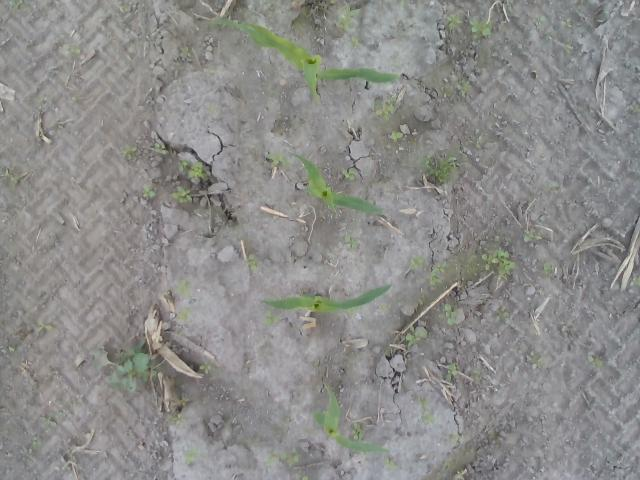Maize: (208, 15, 400, 96), (287, 150, 385, 214), (311, 389, 389, 454), (258, 285, 393, 313)
Weeds: (110, 339, 150, 393), (422, 152, 462, 184), (482, 247, 518, 280), (176, 158, 208, 184), (266, 446, 300, 466), (372, 94, 396, 122), (336, 6, 362, 31), (468, 15, 492, 38), (404, 325, 430, 345), (428, 262, 448, 287), (440, 302, 458, 326), (170, 185, 192, 203), (584, 350, 603, 368), (174, 279, 192, 298), (350, 421, 366, 442), (182, 448, 200, 466), (526, 350, 544, 368), (270, 151, 290, 167), (446, 15, 464, 31), (456, 79, 472, 97), (446, 362, 459, 383), (344, 234, 360, 250), (120, 143, 136, 159), (263, 308, 276, 327), (408, 256, 425, 270), (142, 182, 156, 198), (338, 168, 355, 181), (495, 307, 510, 321), (8, 167, 18, 188), (175, 308, 192, 320), (62, 44, 80, 55), (246, 255, 257, 273), (376, 303, 392, 315), (384, 456, 398, 469), (170, 413, 185, 425), (200, 361, 212, 375), (179, 46, 192, 58), (154, 143, 168, 154), (422, 413, 434, 425), (524, 234, 542, 242), (36, 320, 48, 332), (8, 0, 24, 9), (450, 435, 463, 446), (31, 436, 42, 449), (560, 18, 573, 29), (388, 130, 400, 141), (473, 369, 482, 383), (351, 35, 359, 49), (439, 87, 449, 98), (536, 15, 546, 25), (564, 44, 574, 54), (631, 276, 640, 287), (178, 398, 190, 406), (207, 103, 216, 112), (418, 398, 428, 406), (544, 263, 552, 273), (632, 104, 640, 114), (398, 0, 408, 7), (456, 469, 464, 477), (8, 344, 16, 352), (120, 4, 128, 12), (473, 136, 480, 145), (301, 476, 311, 480)
